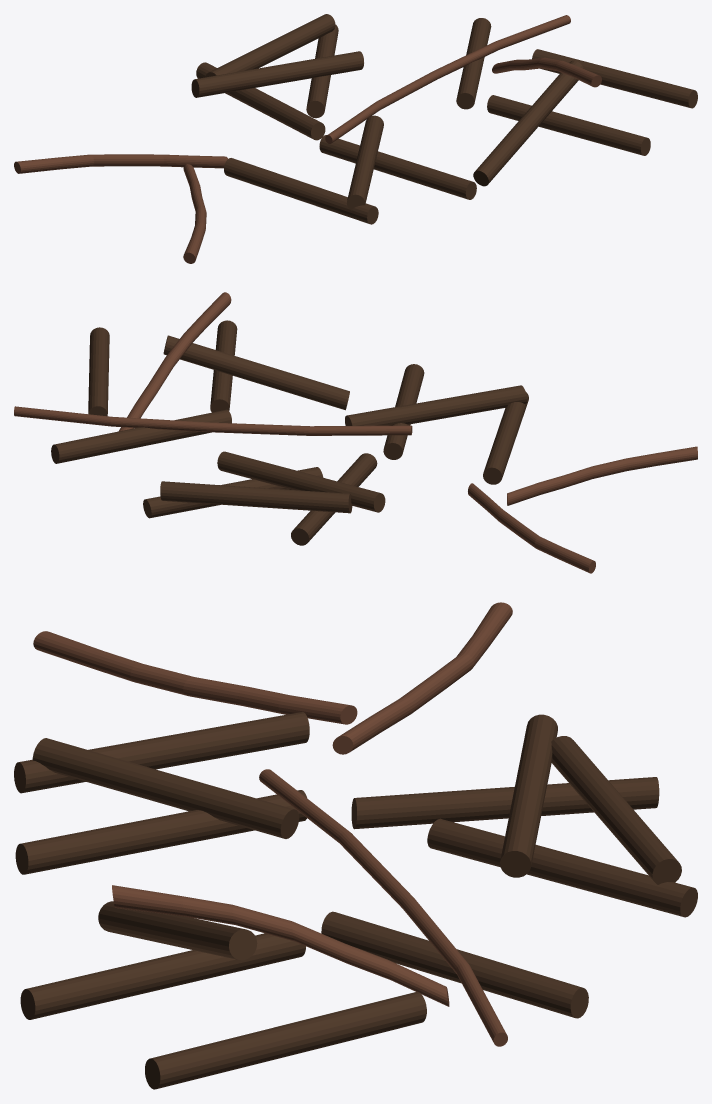
Rendered from Tente mine 2.fbx.
3 renders of one model, top to bottom at view 1: azimuth 30°, elevation 25°; view 2: azimuth 150°, elevation 25°; view 3: azimuth 270°, elevation 25°, orthographic. The views are drawn at different scales.
Parts seen in each view (by area): view 1: rodin de bois coter habitation.032, rodin de bois coter habitation.046, rodin de bois coter habitation.056, rodin de bois coter habitation.055, bois haut dessus.001, rodin de bois coter habitation.047, bois coter 4.001, rodin de bois coter habitation.053, rodin de bois coter habitation.033, rodin de bois coter habitation.030, rodin de bois coter habitation.054, rodin de bois coter habitation.040 (+3 smaller); view 2: bois haut dessus.001, rodin de bois coter habitation.033, rodin de bois coter habitation.055, rodin de bois coter habitation.054, rodin de bois coter habitation.032, rodin de bois coter habitation.040, bois coter 3.001, bois coter 1.001, bois coter 4.001, rodin de bois coter habitation.053, rodin de bois coter habitation.046, rodin de bois coter habitation.030 (+3 smaller); view 3: rodin de bois coter habitation.053, rodin de bois coter habitation.054, rodin de bois coter habitation.056, rodin de bois coter habitation.040, rodin de bois coter habitation.029, rodin de bois coter habitation.030, rodin de bois coter habitation.046, rodin de bois coter habitation.047, bois coter 1.001, bois coter 3.001, bois haut dessus.001, rodin de bois coter habitation.033 (+3 smaller).
Part boxes in pixels (x1=…): rodin de bois coter habitation.032: x1=191, y1=51, x2=363, y2=97; rodin de bois coter habitation.046: x1=224, y1=158, x2=378, y2=224; rodin de bois coter habitation.056: x1=487, y1=95, x2=650, y2=155; rodin de bois coter habitation.055: x1=473, y1=60, x2=583, y2=186; bois haut dessus.001: x1=325, y1=15, x2=570, y2=143; rodin de bois coter habitation.047: x1=319, y1=135, x2=476, y2=199; bois coter 4.001: x1=14, y1=154, x2=228, y2=173; rodin de bois coter habitation.053: x1=532, y1=49, x2=697, y2=108; rodin de bois coter habitation.033: x1=205, y1=14, x2=335, y2=77; rodin de bois coter habitation.030: x1=196, y1=62, x2=325, y2=140; rodin de bois coter habitation.054: x1=346, y1=115, x2=383, y2=210; rodin de bois coter habitation.040: x1=456, y1=18, x2=491, y2=109; bois haut dessus.001: x1=14, y1=406, x2=412, y2=435; rodin de bois coter habitation.033: x1=160, y1=481, x2=352, y2=513; rodin de bois coter habitation.055: x1=163, y1=335, x2=349, y2=410; rodin de bois coter habitation.054: x1=345, y1=385, x2=527, y2=425; rodin de bois coter habitation.032: x1=217, y1=451, x2=385, y2=512; rodin de bois coter habitation.040: x1=51, y1=409, x2=231, y2=463; bois coter 3.001: x1=507, y1=446, x2=697, y2=505; bois coter 1.001: x1=118, y1=292, x2=231, y2=431; bois coter 4.001: x1=468, y1=483, x2=595, y2=573; rodin de bois coter habitation.053: x1=88, y1=327, x2=109, y2=416; rodin de bois coter habitation.046: x1=483, y1=392, x2=528, y2=484; rodin de bois coter habitation.030: x1=291, y1=453, x2=377, y2=545; rodin de bois coter habitation.053: x1=145, y1=992, x2=426, y2=1089; rodin de bois coter habitation.054: x1=32, y1=738, x2=299, y2=838; rodin de bois coter habitation.056: x1=20, y1=933, x2=305, y2=1019; rodin de bois coter habitation.040: x1=321, y1=911, x2=588, y2=1018; rodin de bois coter habitation.029: x1=427, y1=818, x2=697, y2=917; rodin de bois coter habitation.030: x1=351, y1=777, x2=659, y2=829; rodin de bois coter habitation.046: x1=14, y1=712, x2=309, y2=793; rodin de bois coter habitation.047: x1=15, y1=790, x2=306, y2=874; bois coter 1.001: x1=112, y1=885, x2=449, y2=1006; bois coter 3.001: x1=33, y1=631, x2=357, y2=724; bois haut dessus.001: x1=259, y1=769, x2=507, y2=1046; rodin de bois coter habitation.033: x1=551, y1=736, x2=681, y2=884.
Bounding box in the file's own units: 1418 × 194 × 862.
